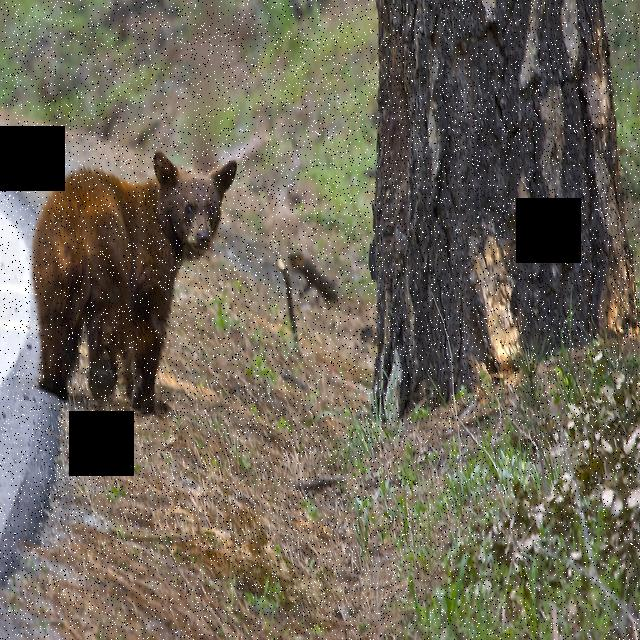Bear: (28, 150, 232, 414)
